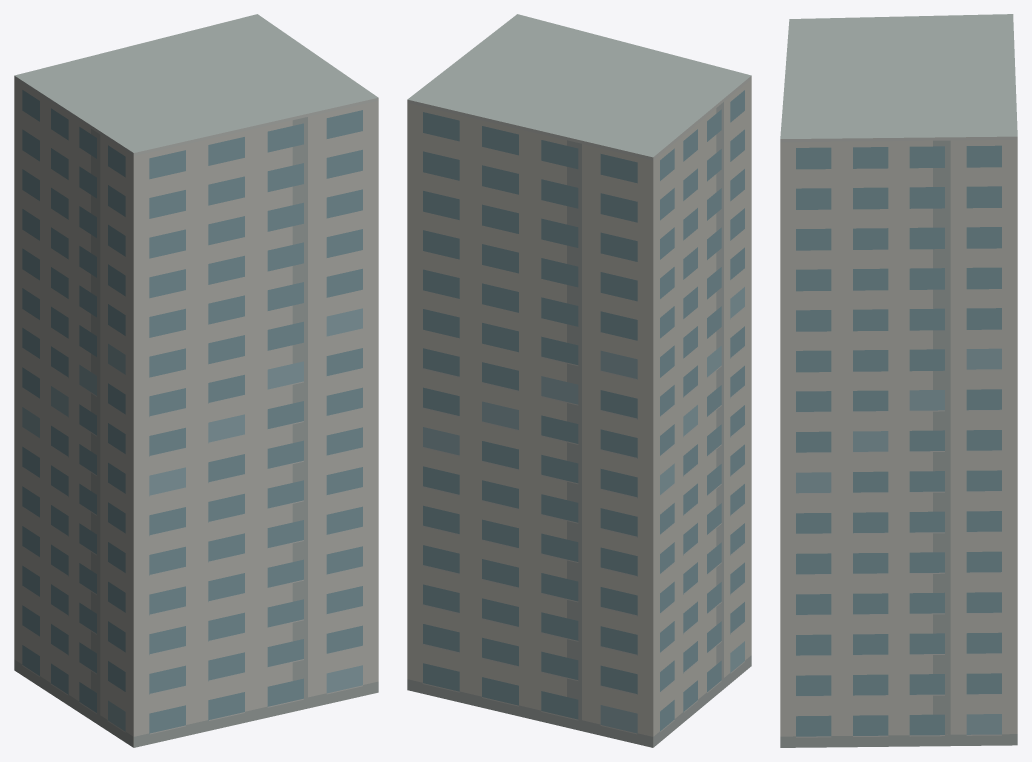
File: residential-6770c95a-777c-4c2d-9581-51c5b5a2cbd7.glb
The picture shows the model from 3 angles, left to right: view 1: azimuth 30°, elevation 25°; view 2: azimuth 150°, elevation 25°; view 3: azimuth 270°, elevation 25°; orthographic projection. The views are drawn at different scales.
Parts seen in each view (by area): view 1: residential-6770c95a-777c-4c2d-9581-51c5b5a2cbd7.tmp; view 2: residential-6770c95a-777c-4c2d-9581-51c5b5a2cbd7.tmp; view 3: residential-6770c95a-777c-4c2d-9581-51c5b5a2cbd7.tmp.
Part boxes in pixels (<box>): residential-6770c95a-777c-4c2d-9581-51c5b5a2cbd7.tmp: <box>14,14,378,747</box>; residential-6770c95a-777c-4c2d-9581-51c5b5a2cbd7.tmp: <box>407,14,751,747</box>; residential-6770c95a-777c-4c2d-9581-51c5b5a2cbd7.tmp: <box>780,14,1017,747</box>.
Bounding box in the file's own units: 20.29 × 46 × 16.28.
